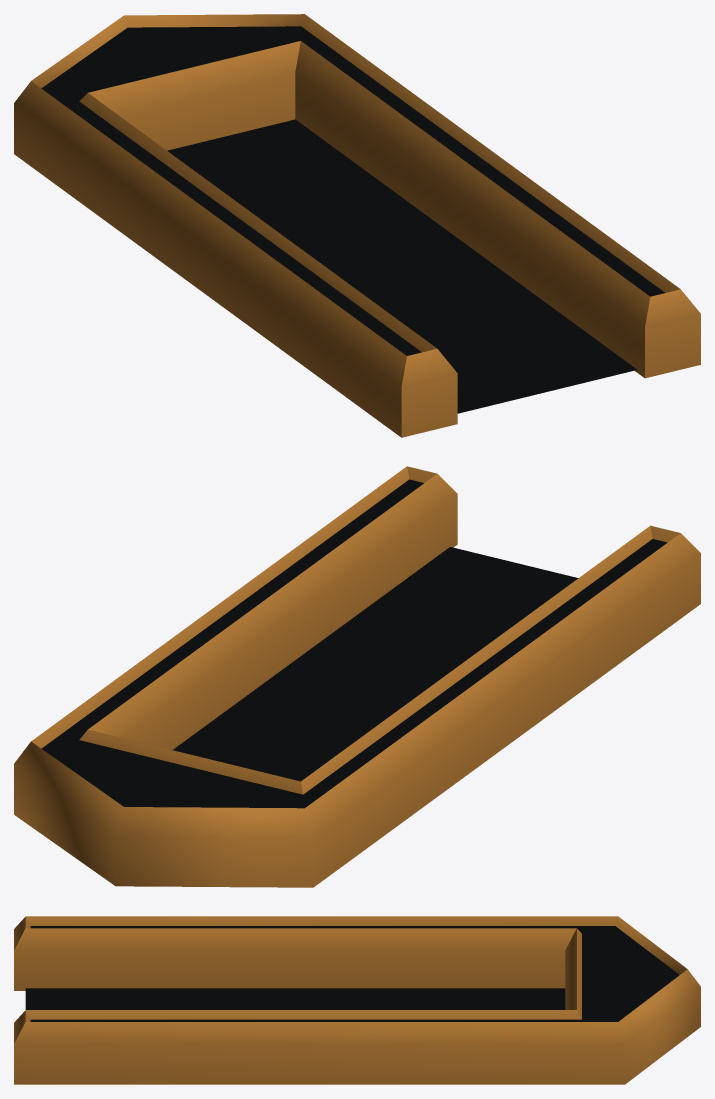
File: eclipse-plastics.dae
The picture shows the model from 3 angles, top to bottom: view 1: azimuth 30°, elevation 25°; view 2: azimuth 150°, elevation 25°; view 3: azimuth 270°, elevation 25°; orthographic projection. The views are drawn at different scales.
Visible parts, largest first — view 1: accent, dark; view 2: accent, dark; view 3: accent, dark.
Boxes of the visible parts, box(x1,y1,x2,y2) form: accent: box(14, 14, 700, 437); dark: box(41, 26, 664, 413); accent: box(14, 466, 700, 887); dark: box(41, 479, 667, 808); accent: box(14, 916, 700, 1084); dark: box(25, 926, 679, 1021).
Bounding box in the file's own units: 0.0984 × 0.023 × 0.248.
